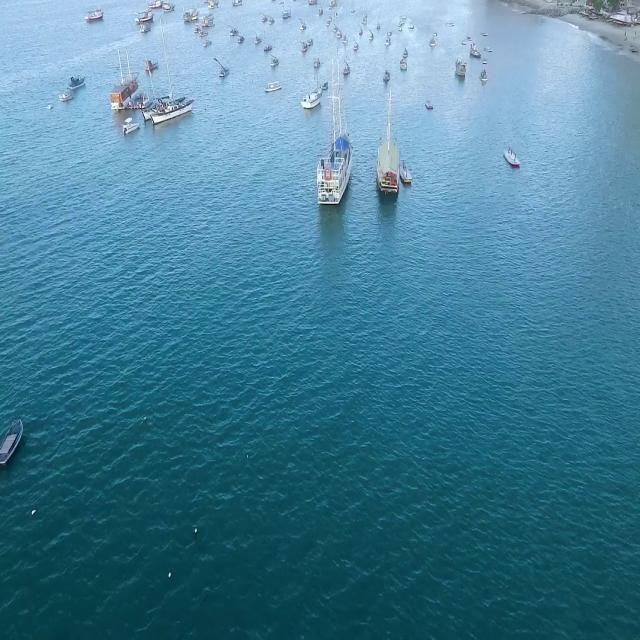ship: (313, 66, 353, 206), (376, 76, 414, 190), (143, 89, 200, 127), (0, 405, 29, 469), (114, 62, 146, 101), (133, 10, 159, 27), (502, 147, 521, 170), (301, 91, 323, 110), (455, 55, 468, 82), (84, 10, 105, 23), (468, 43, 482, 62), (185, 10, 200, 26), (218, 60, 227, 85), (264, 81, 282, 93), (270, 51, 280, 70), (399, 57, 409, 73)
